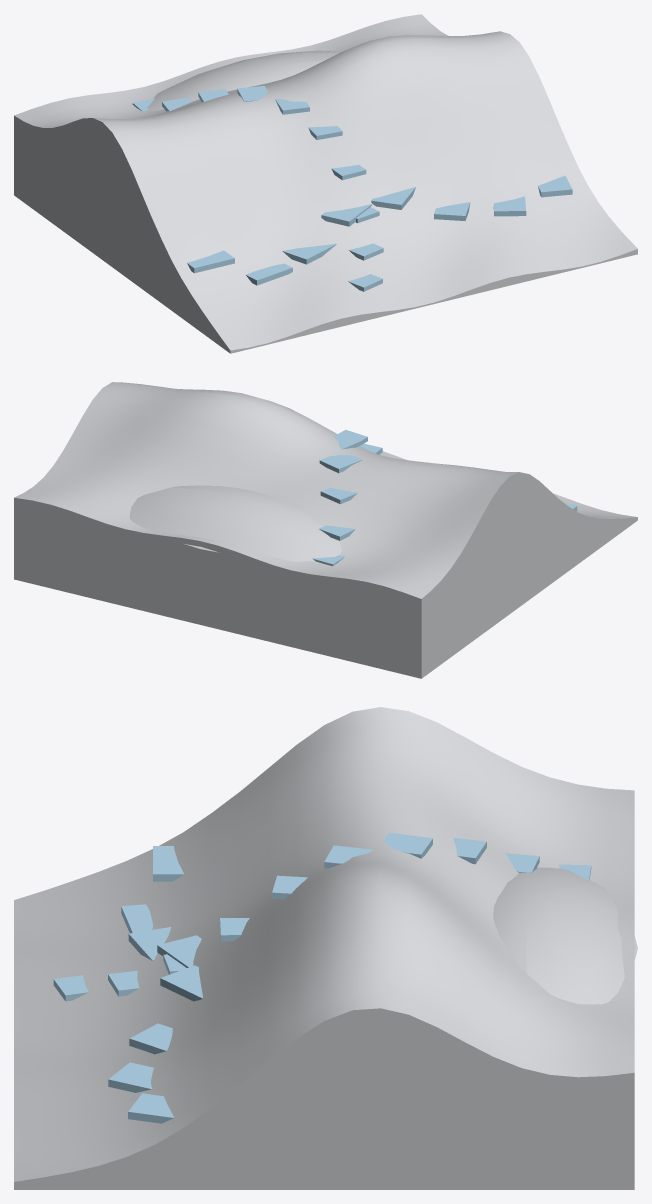
The model's file is backcountry-snowboarding-and-avalanche-safety-wind-lip-2203b87e__18946.glb.
3 renders of one model, top to bottom at view 1: azimuth 30°, elevation 25°; view 2: azimuth 150°, elevation 25°; view 3: azimuth 270°, elevation 25°, orthographic. The views are drawn at different scales.
Visible parts, largest first — view 1: wind-lip; view 2: wind-lip; view 3: wind-lip.
Boxes of the visible parts, x1,y1,x2,y2 form: wind-lip: (14, 14, 637, 353); wind-lip: (14, 382, 637, 678); wind-lip: (14, 707, 637, 1189).
Bounding box in the file's own units: 5 × 1.75 × 4.63.
